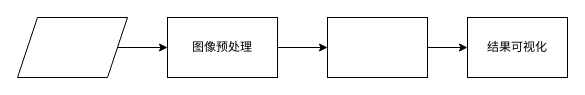
Some shapes in this 585 by 95 pixel diagram are drawn without their labels. Each missing label, with the centre of its shape:
"Yolact模型" goes at (377,47).
"图像输入" goes at (72,47).
